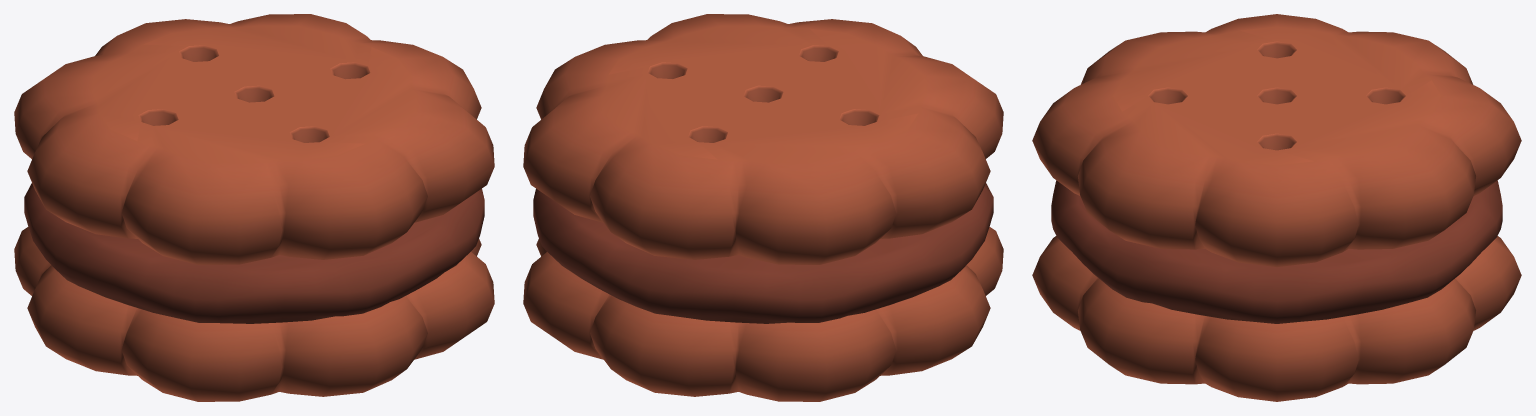
Rendered from Biscuits_V4_01.fbx.
3 renders of one model, left to right at view 1: azimuth 30°, elevation 25°; view 2: azimuth 150°, elevation 25°; view 3: azimuth 270°, elevation 25°, orthographic.
Visible parts, largest first — view 1: Biscuits_V4_01; view 2: Biscuits_V4_01; view 3: Biscuits_V4_01.
Boxes of the visible parts, left/top/right/bottom form: Biscuits_V4_01: left=14, top=14, right=494, bottom=401; Biscuits_V4_01: left=523, top=14, right=1003, bottom=401; Biscuits_V4_01: left=1032, top=14, right=1521, bottom=401.
Bounding box in the file's own units: 28.65 × 14.47 × 28.65.
